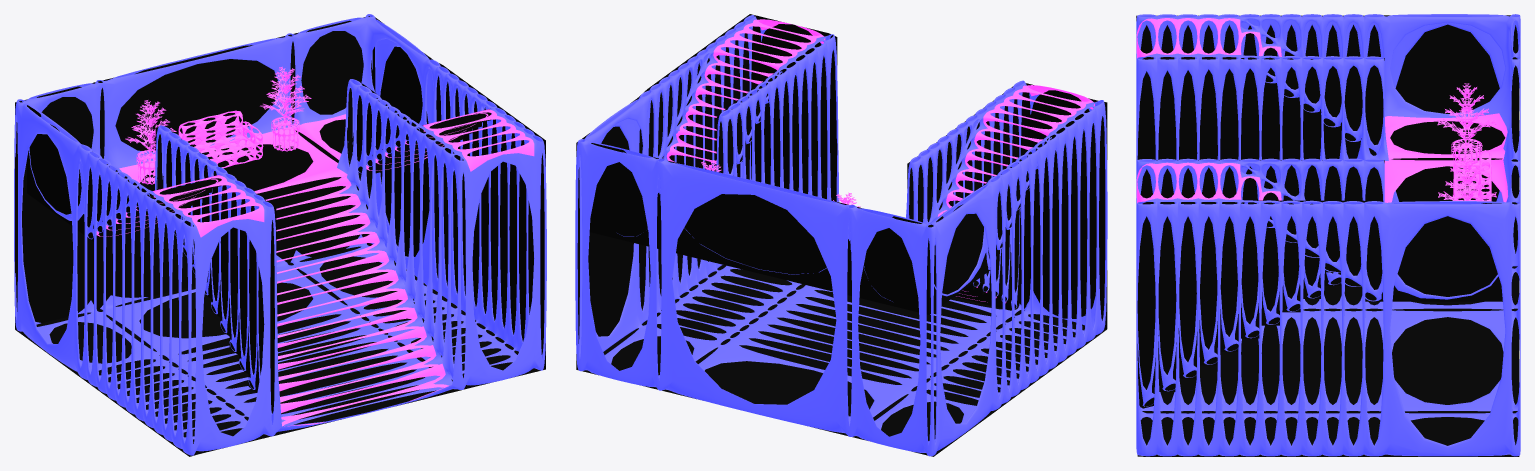
File: neon stairs.fbx
3 views of the same model, side by side, from view 1: azimuth 30°, elevation 25°; view 2: azimuth 150°, elevation 25°; view 3: azimuth 270°, elevation 25° (orthographic). The views are drawn at different scales.
Parts seen in each view (by area): view 1: neon stairs, Base, neon sofá, neon plant pot.002, neon plant pot.001; view 2: neon stairs, Base; view 3: Base, neon stairs, neon plant pot.001, neon sofá, neon plant pot.002.
Boxes of the visible parts, x1,y1,x2,y2 form: neon stairs: (14,14,546,455); Base: (15,16,545,456); neon sofá: (178,110,263,168); neon plant pot.002: (260,66,311,151); neon plant pot.001: (125,100,176,184); neon stairs: (575,15,1107,456); Base: (576,14,1107,456); Base: (1136,15,1519,456); neon stairs: (1136,14,1520,456); neon plant pot.001: (1437,83,1496,176); neon sofá: (1453,150,1491,201); neon plant pot.002: (1438,155,1496,201).
Bounding box in the file's own units: 1198 × 732 × 1009.
